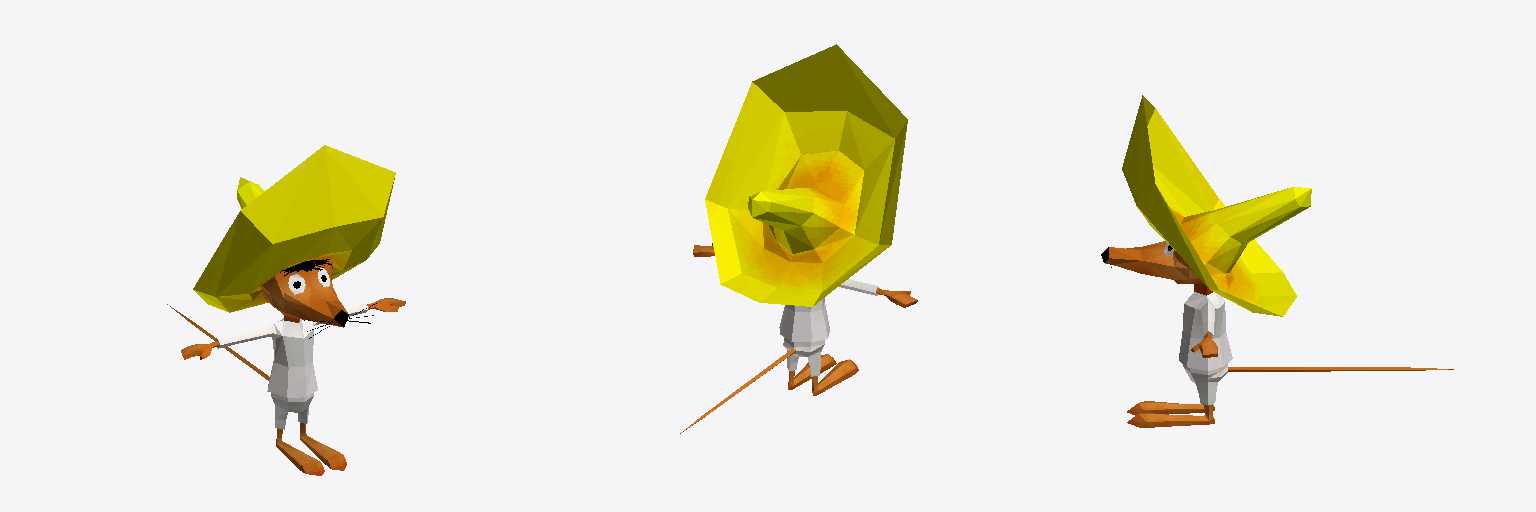
3 views of the same model, side by side, from view 1: azimuth 30°, elevation 25°; view 2: azimuth 150°, elevation 25°; view 3: azimuth 270°, elevation 25° (orthographic).
Visible parts, largest first — view 1: polygon22; view 2: polygon22; view 3: polygon22.
Part boxes in pixels (bbox=[...]): polygon22: bbox=[167, 145, 405, 475]; polygon22: bbox=[680, 44, 917, 433]; polygon22: bbox=[1101, 95, 1453, 427].
Bounding box in the file's own units: 1.32 × 1.81 × 1.82.
Materials: 2 (2 with a texture image).